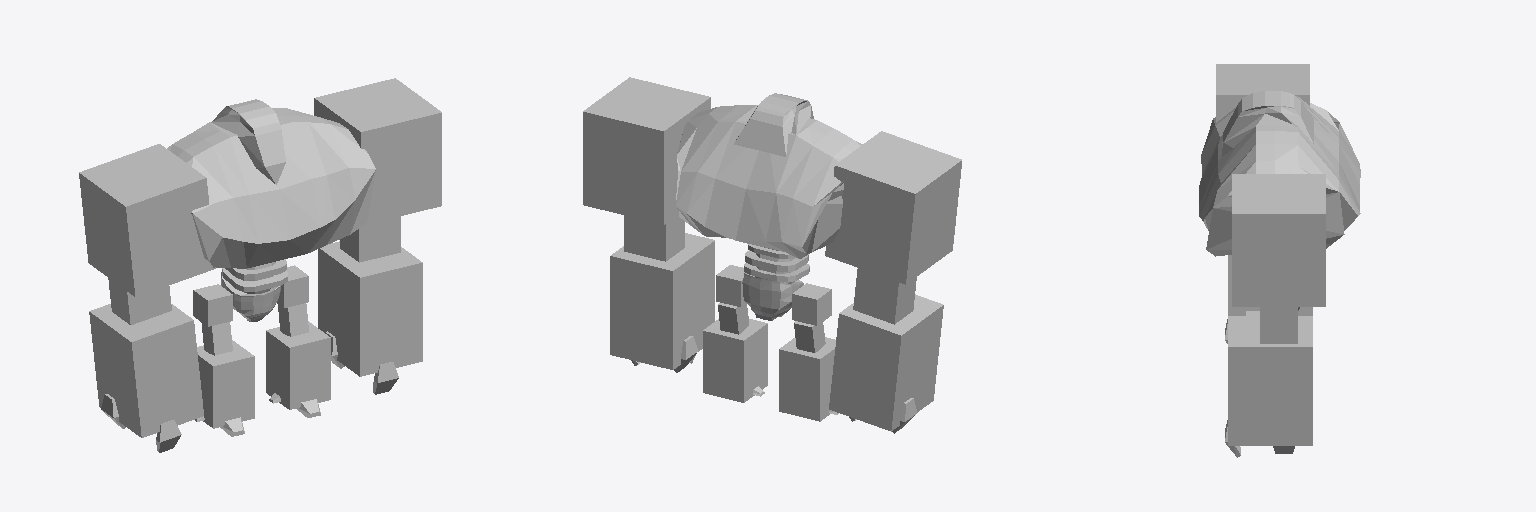
The model's file is robot_model_torso_and_head.obj.
The picture shows the model from 3 angles: view 1: azimuth 30°, elevation 25°; view 2: azimuth 150°, elevation 25°; view 3: azimuth 270°, elevation 25°; orthographic projection.
Parts seen in each view (by area): view 1: Robot torso Core, Robot rightShoulder RightArm, Robot LeftArm leftForearm, Robot RightArm rightForearm, Robot leftShoulder LeftArm, Robot LeftLeg leftCalf, Robot RightLeg rightCalf, Head Robot, Robot LeftArm leftUpperArm, Robot RightArm rightUpperArm, Robot Core spine, Robot rightHip RightLeg (+6 smaller); view 2: Robot torso Core, Robot rightShoulder RightArm, Robot leftShoulder LeftArm, Robot LeftArm leftForearm, Robot RightArm rightForearm, Robot LeftLeg leftCalf, Robot RightLeg rightCalf, Head Robot, Robot RightArm rightUpperArm, Robot LeftArm leftUpperArm, Robot Core spine, Robot Core pelvis (+4 smaller); view 3: Robot leftShoulder LeftArm, Robot torso Core, Robot LeftArm leftForearm, Robot rightShoulder RightArm, Head Robot, Robot LeftArm leftUpperArm, Robot RightArm rightForearm.
Part boxes in pixels (left/top/right/bottom): Robot torso Core: left=167, top=108, right=375, bottom=268; Robot rightShoulder RightArm: left=79, top=144, right=215, bottom=297; Robot LeftArm leftForearm: left=318, top=241, right=422, bottom=376; Robot RightArm rightForearm: left=89, top=304, right=203, bottom=437; Robot leftShoulder LeftArm: left=314, top=78, right=441, bottom=224; Robot LeftLeg leftCalf: left=266, top=321, right=330, bottom=409; Robot RightLeg rightCalf: left=197, top=340, right=254, bottom=428; Head Robot: left=211, top=99, right=285, bottom=184; Robot LeftArm leftUpperArm: left=340, top=216, right=400, bottom=262; Robot RightArm rightUpperArm: left=108, top=278, right=171, bottom=324; Robot Core spine: left=222, top=259, right=287, bottom=293; Robot rightHip RightLeg: left=193, top=284, right=232, bottom=326; Robot torso Core: left=676, top=105, right=862, bottom=258; Robot rightShoulder RightArm: left=825, top=131, right=961, bottom=284; Robot leftShoulder LeftArm: left=583, top=77, right=710, bottom=224; Robot LeftArm leftForearm: left=610, top=233, right=714, bottom=369; Robot RightArm rightForearm: left=829, top=294, right=943, bottom=431; Robot LeftLeg leftCalf: left=703, top=319, right=767, bottom=402; Robot RightLeg rightCalf: left=779, top=337, right=835, bottom=421; Head Robot: left=734, top=93, right=813, bottom=156; Robot RightArm rightUpperArm: left=853, top=268, right=916, bottom=324; Robot LeftArm leftUpperArm: left=624, top=215, right=684, bottom=261; Robot Core spine: left=744, top=244, right=809, bottom=283; Robot Core pelvis: left=742, top=272, right=803, bottom=320; Robot leftShoulder LeftArm: left=1232, top=174, right=1325, bottom=306; Robot torso Core: left=1199, top=96, right=1360, bottom=256; Robot LeftArm leftForearm: left=1228, top=316, right=1312, bottom=445; Robot rightShoulder RightArm: left=1216, top=64, right=1309, bottom=122; Head Robot: left=1221, top=91, right=1313, bottom=156; Robot LeftArm leftUpperArm: left=1260, top=307, right=1297, bottom=343; Robot RightArm rightForearm: left=1228, top=255, right=1312, bottom=315.
Bounding box in the file's own units: 4.42 × 3.99 × 1.91.